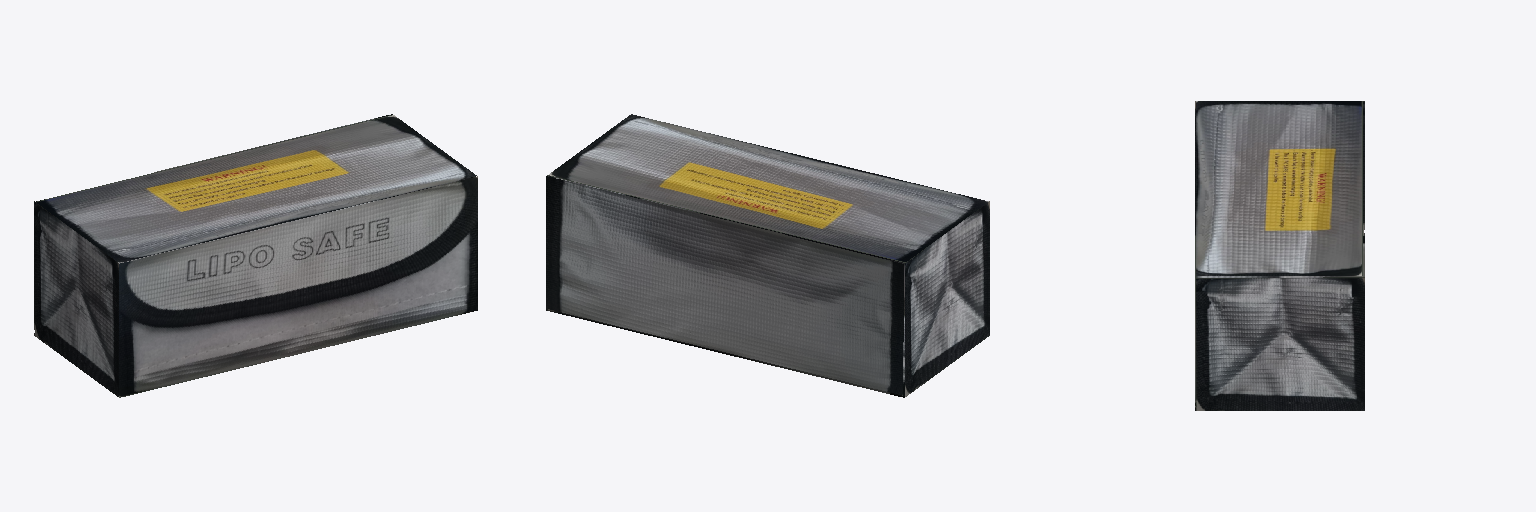
The picture shows the model from 3 angles: view 1: azimuth 30°, elevation 25°; view 2: azimuth 150°, elevation 25°; view 3: azimuth 270°, elevation 25°; orthographic projection.
Parts seen in each view (by area): view 1: Plane_Plane.004; view 2: Plane_Plane.004; view 3: Plane_Plane.004.
Part boxes in pixels (left/top/right/bottom): Plane_Plane.004: left=34, top=114, right=477, bottom=397; Plane_Plane.004: left=546, top=114, right=989, bottom=397; Plane_Plane.004: left=1195, top=101, right=1364, bottom=410.
Bounding box in the file's own units: 0.195 × 0.07 × 0.08.
1 materials, 1 textured.